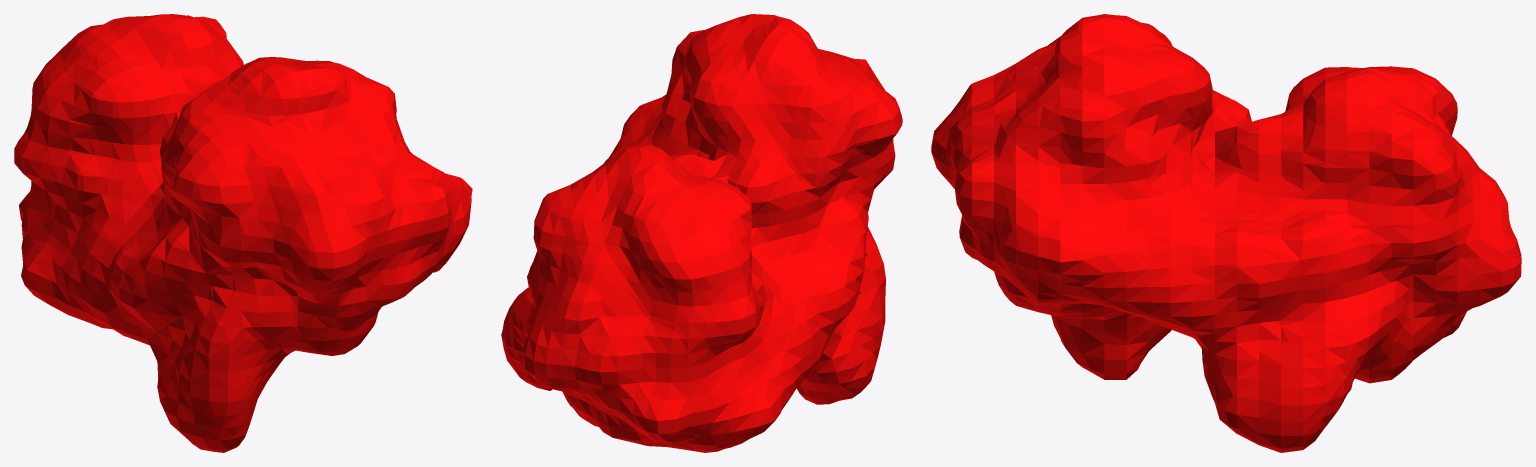
File: sufD_coarse.dae
3 views of the same model, side by side, from view 1: azimuth 30°, elevation 25°; view 2: azimuth 150°, elevation 25°; view 3: azimuth 270°, elevation 25° (orthographic). The views are drawn at different scales.
Visible parts, largest first — view 1: sufD; view 2: sufD; view 3: sufD.
Part boxes in pixels (left/top/right/bottom): sufD: left=14, top=14, right=472, bottom=452; sufD: left=501, top=14, right=902, bottom=452; sufD: left=931, top=14, right=1521, bottom=452.
Size of the model in its own units: 63.09 by 72.75 by 101.
